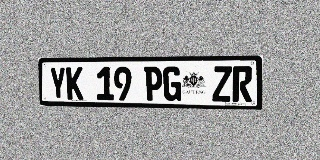1: (96, 67, 114, 100)
9: (114, 67, 132, 100)
G: (163, 66, 181, 101)
K: (66, 67, 83, 100)
P: (144, 66, 162, 101)
R: (232, 66, 253, 102)
Y: (49, 67, 66, 100)
Z: (212, 66, 232, 102)
